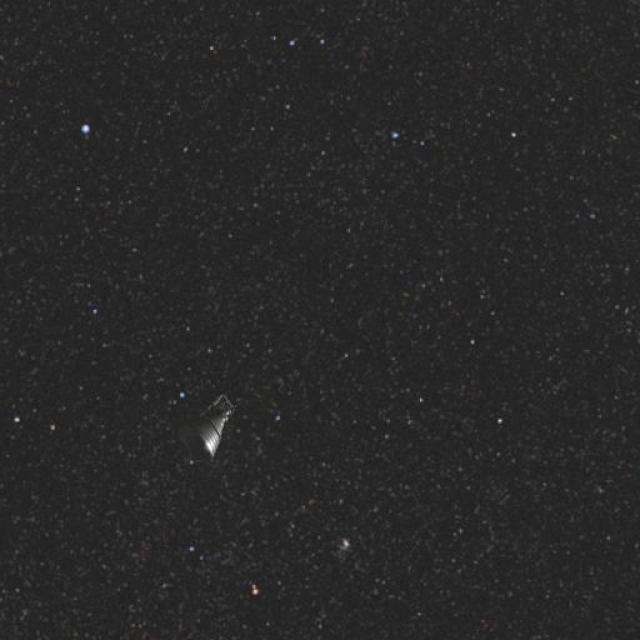debris: (175, 374, 254, 484)
